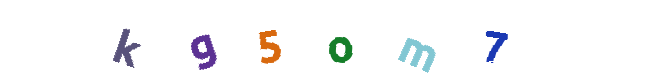5: (291, 0, 371, 80)
7: (455, 0, 535, 80)
G: (229, 0, 309, 80)
K: (132, 0, 212, 80)
M: (348, 0, 428, 80)
O: (300, 0, 380, 80)
